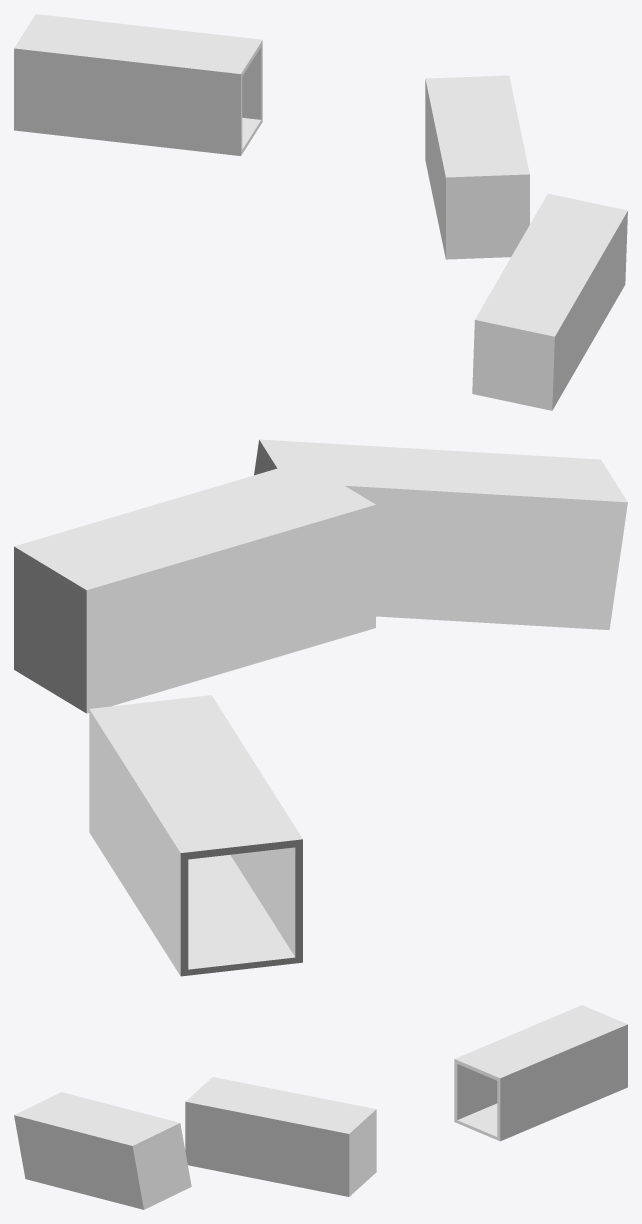
Rendered from Container2_Closed1.fbx.
3 renders of one model, top to bottom at view 1: azimuth 30°, elevation 25°; view 2: azimuth 150°, elevation 25°; view 3: azimuth 270°, elevation 25°, orthographic. The views are drawn at different scales.
Parts seen in each view (by area): view 1: Container2_Closed1; view 2: Container2_Closed1; view 3: Container2_Closed1.
Part boxes in pixels (<box>): Container2_Closed1: <box>14,14,627,410</box>; Container2_Closed1: <box>14,439,627,976</box>; Container2_Closed1: <box>14,1005,627,1209</box>.
Bounding box in the file's own units: 1132 × 2277 × 442.
